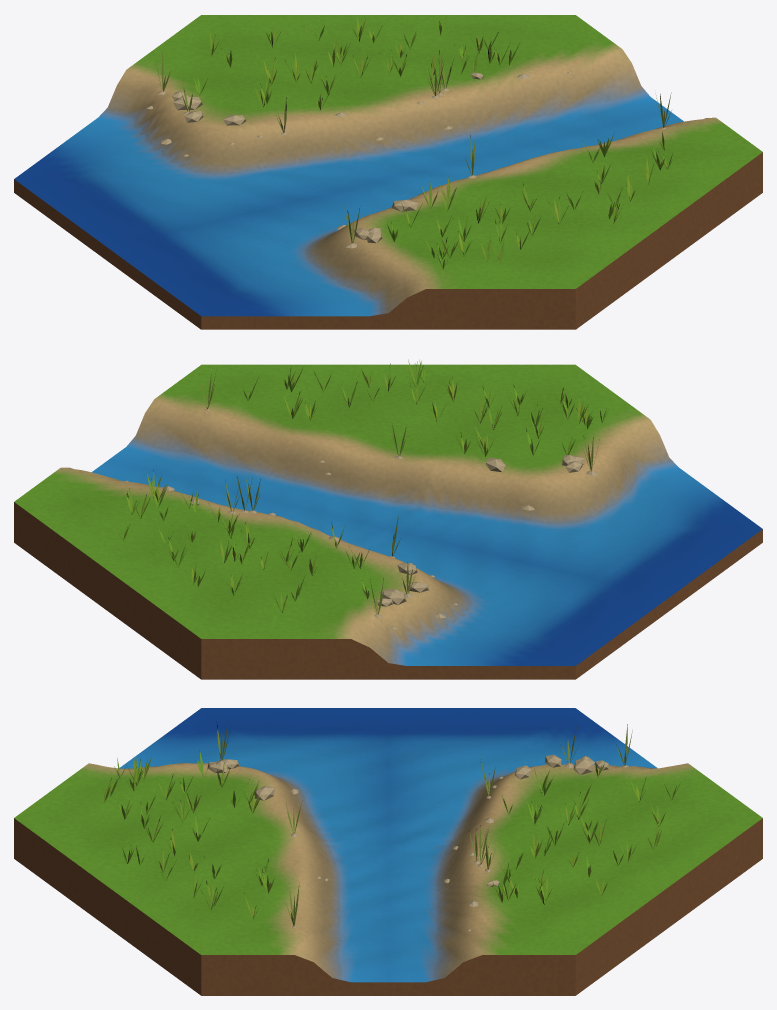
The model's file is SM_Agua_Desembocadura_Detalle_LOD0.fbx.
The picture shows the model from 3 angles, top to bottom: view 1: azimuth 30°, elevation 25°; view 2: azimuth 150°, elevation 25°; view 3: azimuth 270°, elevation 25°; orthographic projection.
Parts seen in each view (by area): view 1: SM_Agua_Desembocadura_Detalle_LOD0; view 2: SM_Agua_Desembocadura_Detalle_LOD0; view 3: SM_Agua_Desembocadura_Detalle_LOD0.
Part boxes in pixels (<box>): SM_Agua_Desembocadura_Detalle_LOD0: <box>14,15,762,329</box>; SM_Agua_Desembocadura_Detalle_LOD0: <box>14,359,762,679</box>; SM_Agua_Desembocadura_Detalle_LOD0: <box>14,708,762,995</box>.
Size of the model in its own units: 1.73 by 0.2506 by 2.
1 material, 1 textured.
